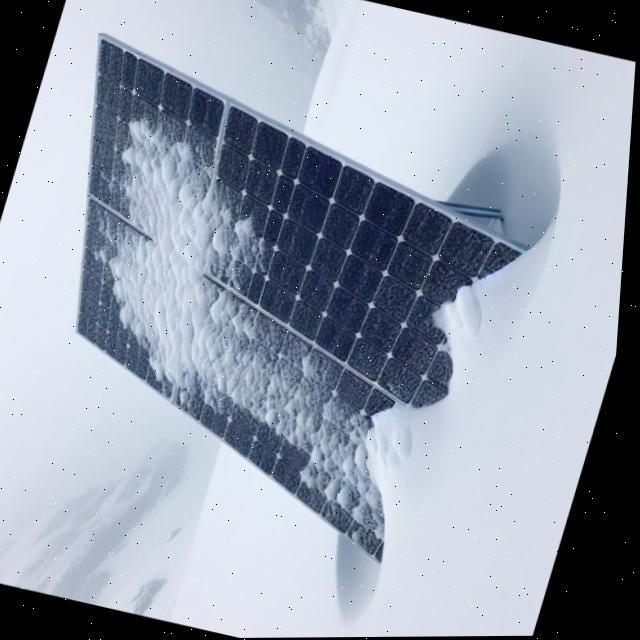Anomaly Solar Panel: (0, 0, 623, 587)
Snow: (0, 94, 560, 588)
